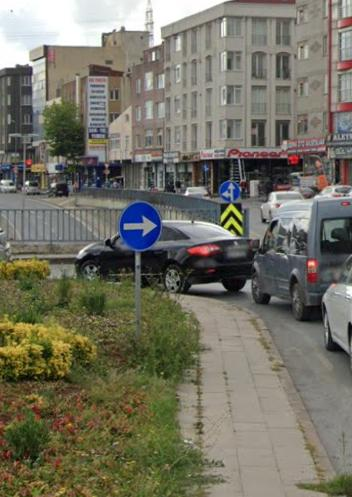turnright: (121, 204, 160, 248)
